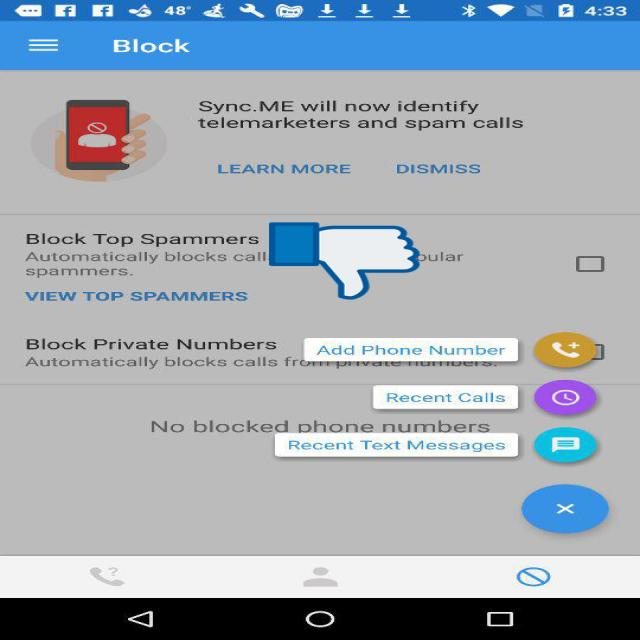obstruction: (269, 221, 420, 301)
